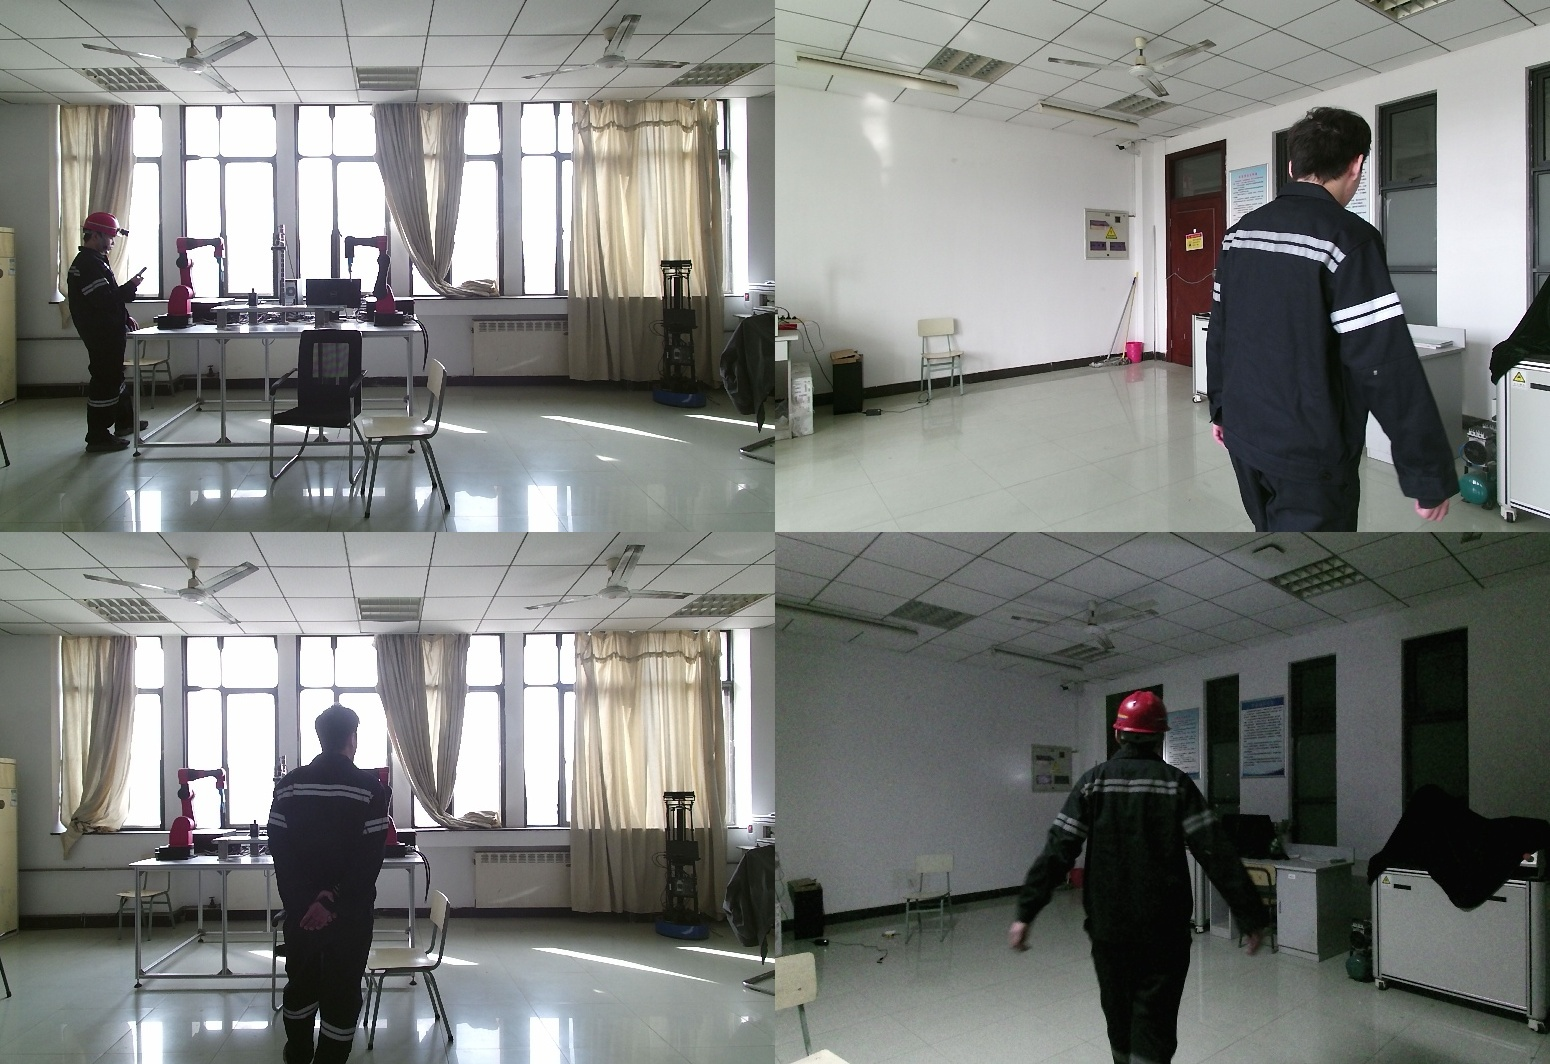person: (1215, 106, 1489, 532), (1007, 688, 1301, 1064), (265, 705, 413, 1064), (67, 214, 144, 454)
